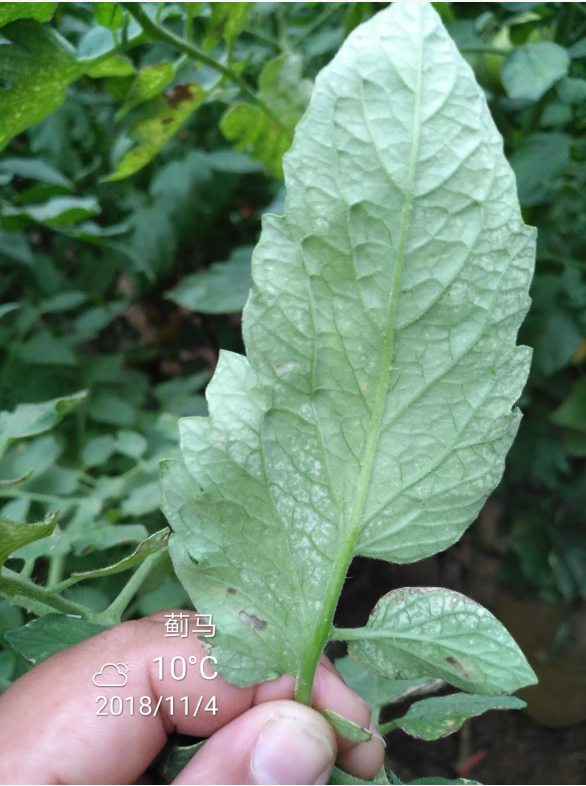thrips: (204, 346, 339, 681), (343, 586, 540, 696)
